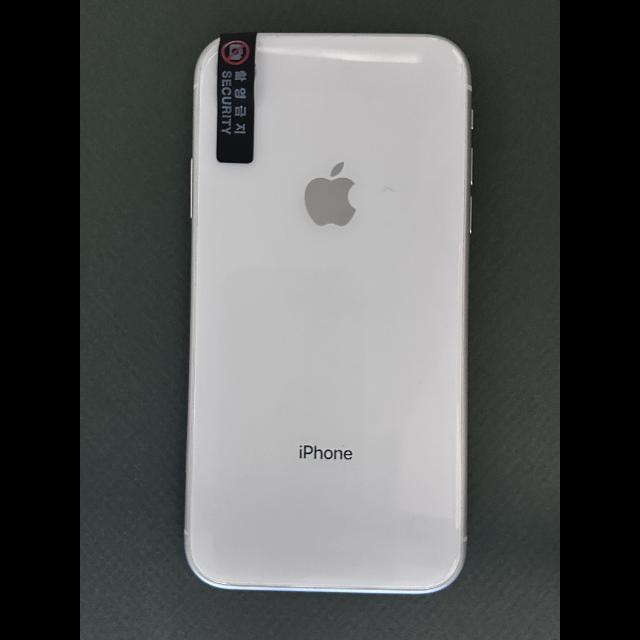phone: (183, 32, 473, 594)
sticker: (216, 32, 258, 164)
